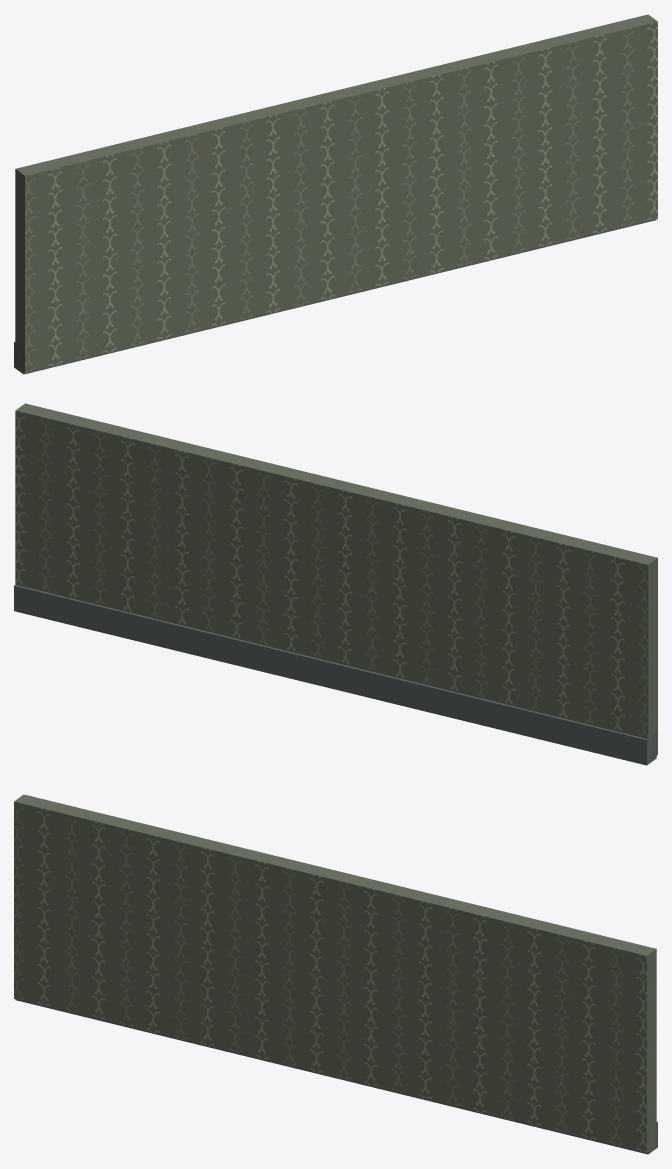
File: wall.fbx
The picture shows the model from 3 angles, top to bottom: view 1: azimuth 30°, elevation 25°; view 2: azimuth 150°, elevation 25°; view 3: azimuth 330°, elevation 25°; orthographic projection.
Parts seen in each view (by area): view 1: wall; view 2: wall; view 3: wall.
Boxes of the visible parts, x1,y1,x2,y2 form: wall: (14, 14, 657, 374); wall: (14, 403, 657, 765); wall: (14, 794, 657, 1154).
Size of the model in its own units: 2325 by 701 by 70.94.
1 material, 1 textured.
